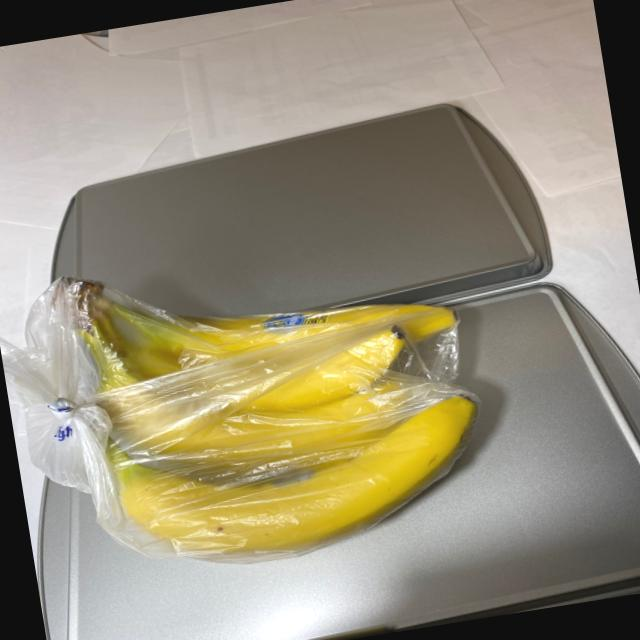banana: (46, 216, 494, 586)
